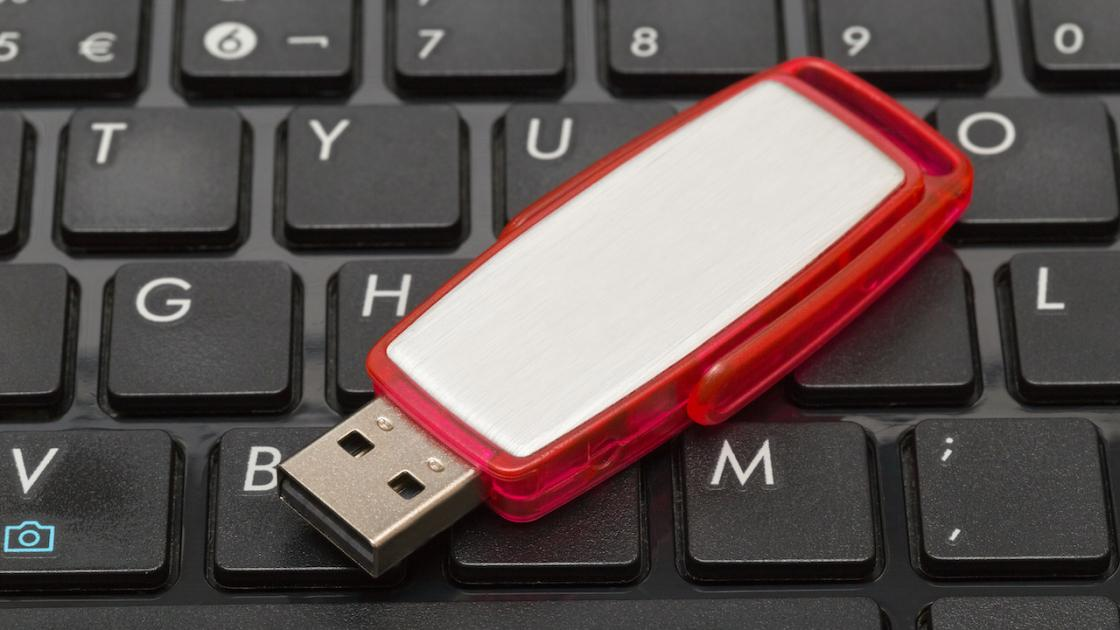USB Flash Drive: (278, 58, 976, 580)
